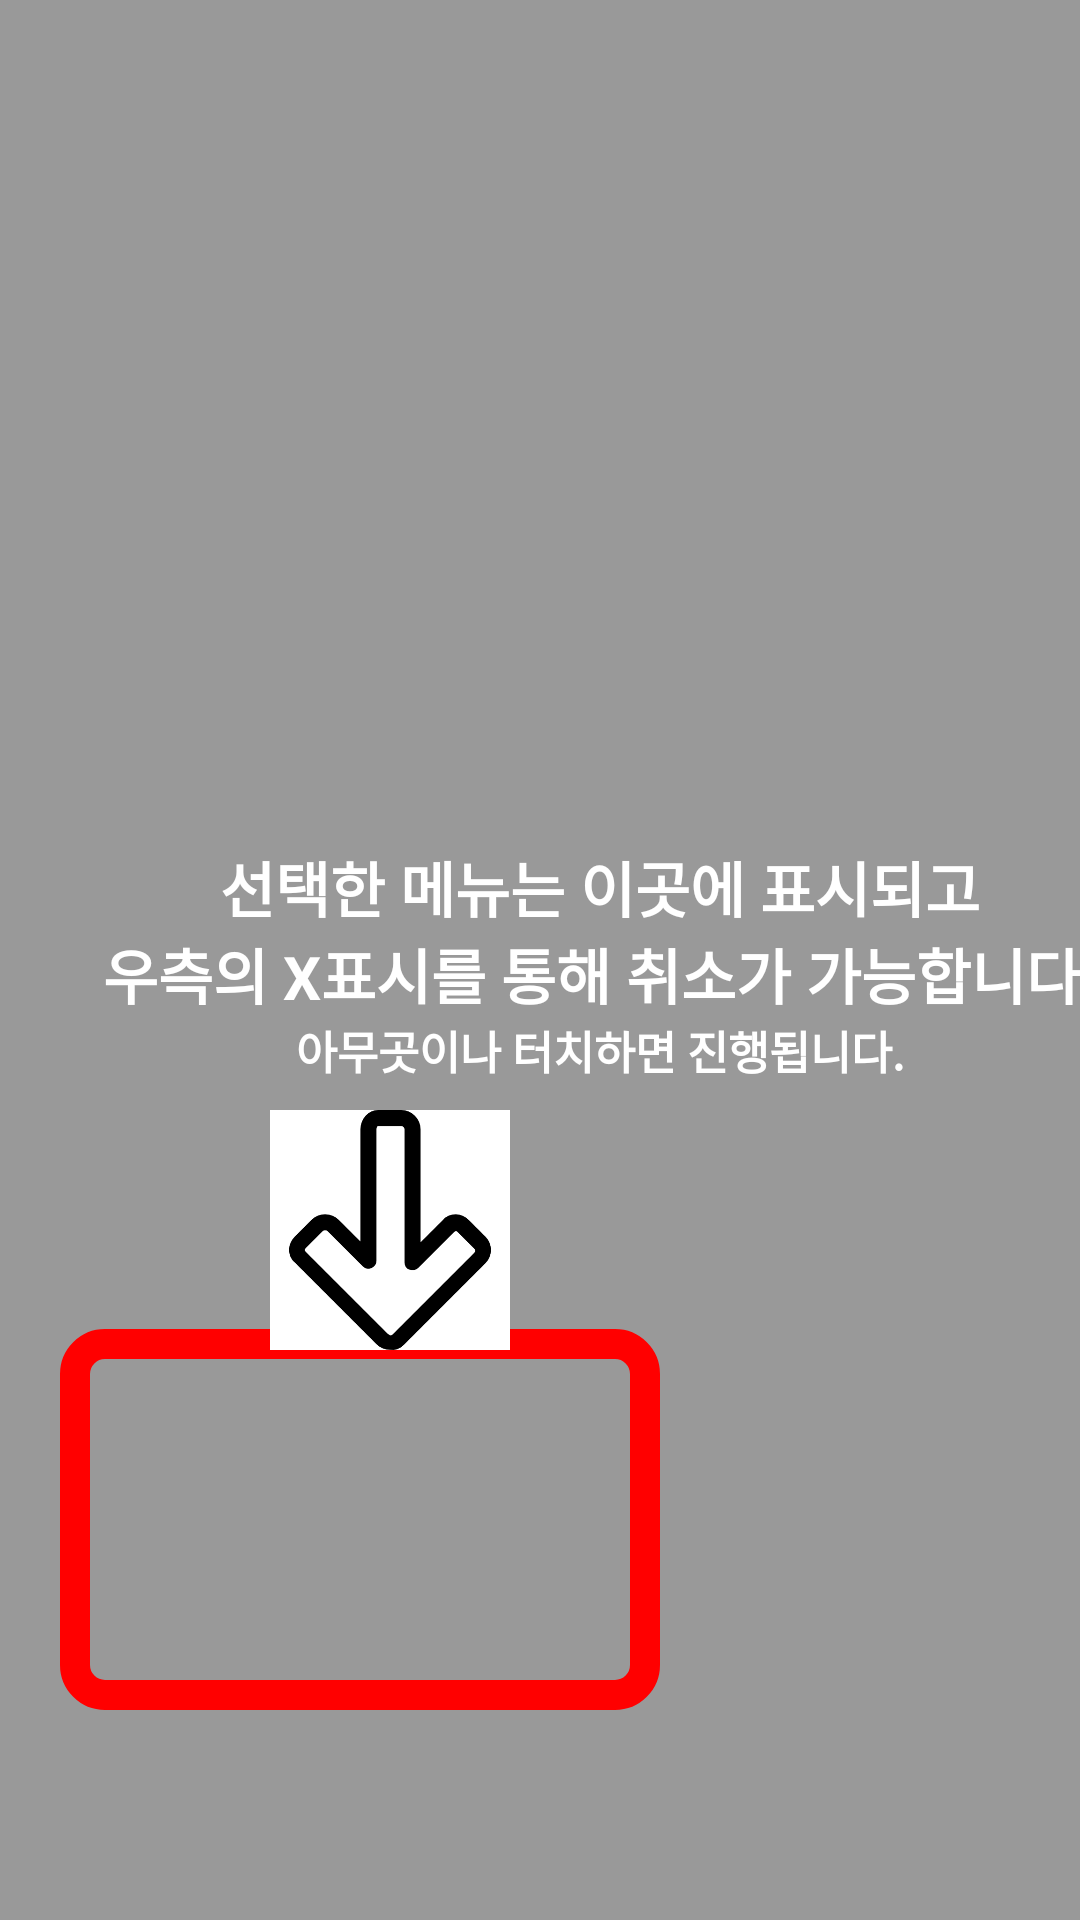

Screen size 1080w x 1920h. Icon name, then its center in pixels as (x=x, y=y):
down: (x=390, y=1230)
